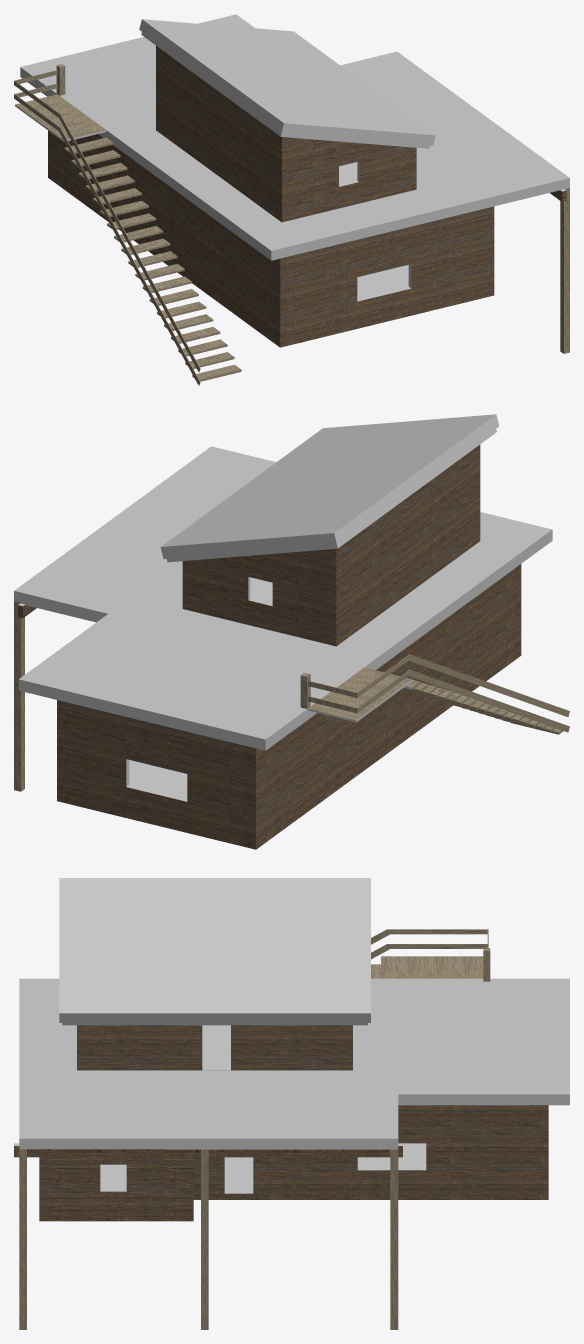
Rendered from housec5.fbx.
3 renders of one model, top to bottom at view 1: azimuth 30°, elevation 25°; view 2: azimuth 150°, elevation 25°; view 3: azimuth 270°, elevation 25°, orthographic. The views are drawn at different scales.
Parts seen in each view (by area): view 1: House; view 2: House; view 3: House.
Part boxes in pixels (x1=…): House: x1=14, y1=14, x2=569, y2=385; House: x1=14, y1=414, x2=569, y2=849; House: x1=14, y1=878, x2=569, y2=1329.
Bounding box in the file's own units: 1610 × 1266 × 2068.
